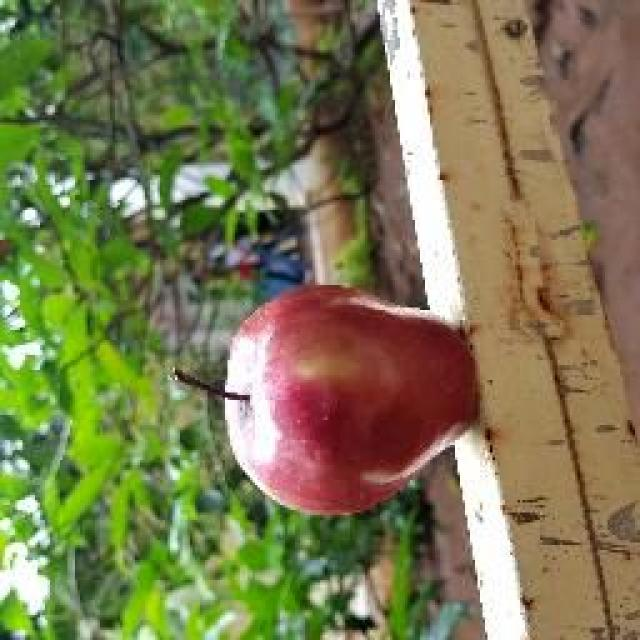Good_Apple: (198, 285, 480, 518)
